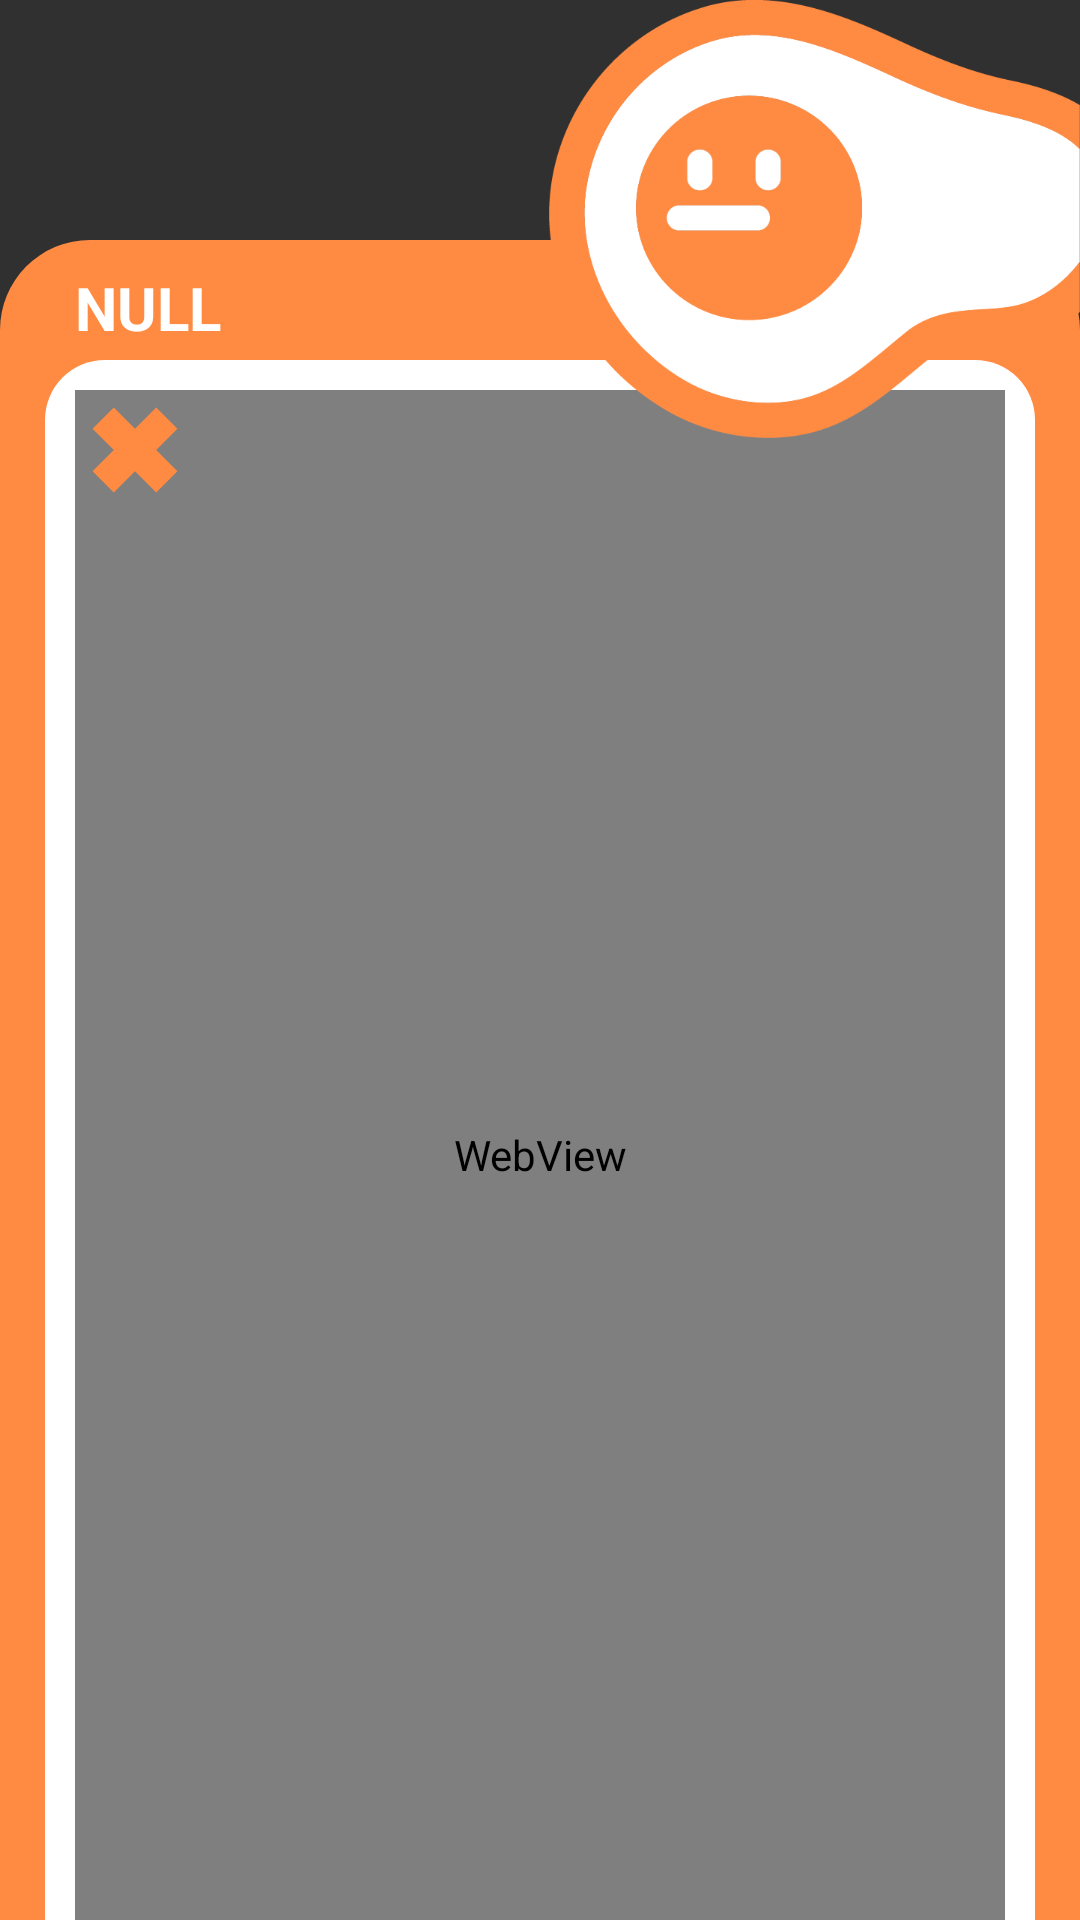

Icon click points for this 1080px x 1920px phone screenshot, format [x,y]:
cross: [135,450]
